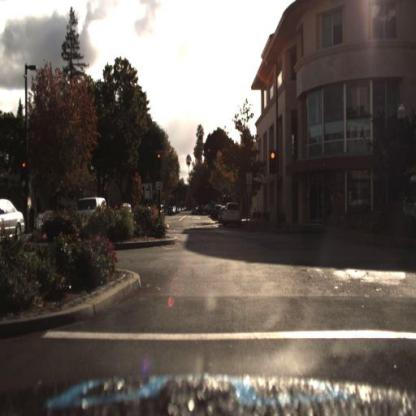car: (1, 198, 26, 244), (71, 194, 107, 219), (223, 200, 243, 227), (201, 199, 222, 218)
trafficLight: (20, 156, 30, 181)
trafficLight-Red: (268, 146, 278, 174), (156, 149, 165, 174)
